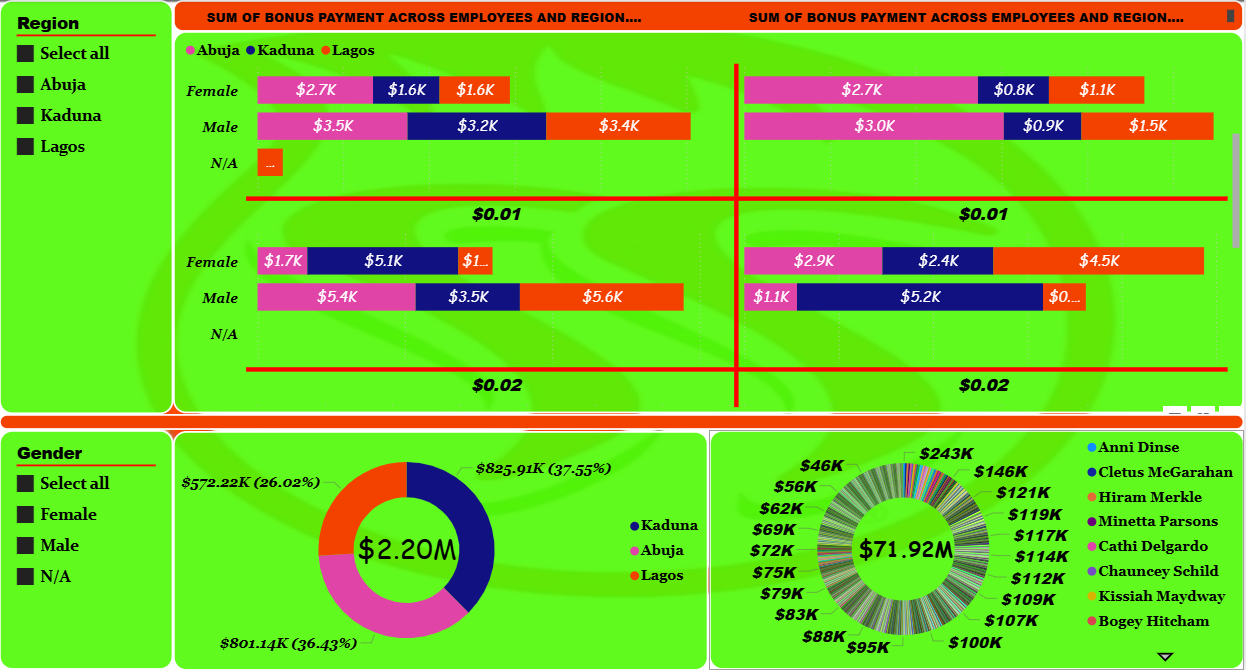

Layout of this report page (visuals, bound fields, positions):
{"tool":"powerbi","page":{"name":"Page 4","canvas":[1407,757],"ordinal":3},"visuals":[{"type":"barChart","fields":{"Category":["MY BI PROJECT.Gender","MY BI PROJECT.Total Pay"],"Y":["MY BI PROJECT.Annual Bonus"],"Series":["MY BI PROJECT.Region"],"Rows":["MY BI PROJECT.Bonus Rate"]},"box":[197,35.5,1210,432.5],"z":0},{"type":"slicer","fields":{"Values":["MY BI PROJECT.Region"]},"box":[0,0,197,468],"z":1000},{"type":"slicer","fields":{"Values":["MY BI PROJECT.Gender"]},"box":[0,485.8,197,271],"z":2000},{"type":"donutChart","fields":{"Category":["MY BI PROJECT.Region"],"Y":["MY BI PROJECT.Annual Bonus"]},"box":[196.6,486.4,604.6,271.2],"z":3000},{"type":"donutChart","fields":{"Category":["MY BI PROJECT.Name"],"Y":["MY BI PROJECT.Total Pay"]},"box":[802,486,605,271],"z":4000},{"type":"card","fields":{"Values":["MY BI PROJECT.Annual Bonus"]},"box":[379.1,549.5,158.5,140.7],"z":5000},{"type":"card","fields":{"Values":["MY BI PROJECT.Total Pay"]},"box":[913.8,530.2,219.2,182.2],"z":6000},{"type":"shape","box":[0,468,1407,17.8],"z":7000},{"type":"textbox","box":[197,0,1210,35.5],"z":8000}]}

Visuals, with their boxes in screenshot pixels (x1, y1, x2, y2), scaled from the page's 1407x757 canvas onto the 1246x670 screenshot:
barChart - MY BI PROJECT.Gender x MY BI PROJECT.Total Pay: (x1=174, y1=31, x2=1245, y2=414)
slicer - MY BI PROJECT.Region: (x1=0, y1=0, x2=174, y2=414)
slicer - MY BI PROJECT.Gender: (x1=0, y1=430, x2=174, y2=669)
donutChart - MY BI PROJECT.Region x MY BI PROJECT.Annual Bonus: (x1=174, y1=430, x2=710, y2=669)
donutChart - MY BI PROJECT.Name x MY BI PROJECT.Total Pay: (x1=710, y1=430, x2=1245, y2=669)
card - MY BI PROJECT.Annual Bonus: (x1=336, y1=486, x2=476, y2=611)
card - MY BI PROJECT.Total Pay: (x1=809, y1=469, x2=1003, y2=631)
shape: (x1=0, y1=414, x2=1245, y2=430)
textbox: (x1=174, y1=0, x2=1245, y2=31)
